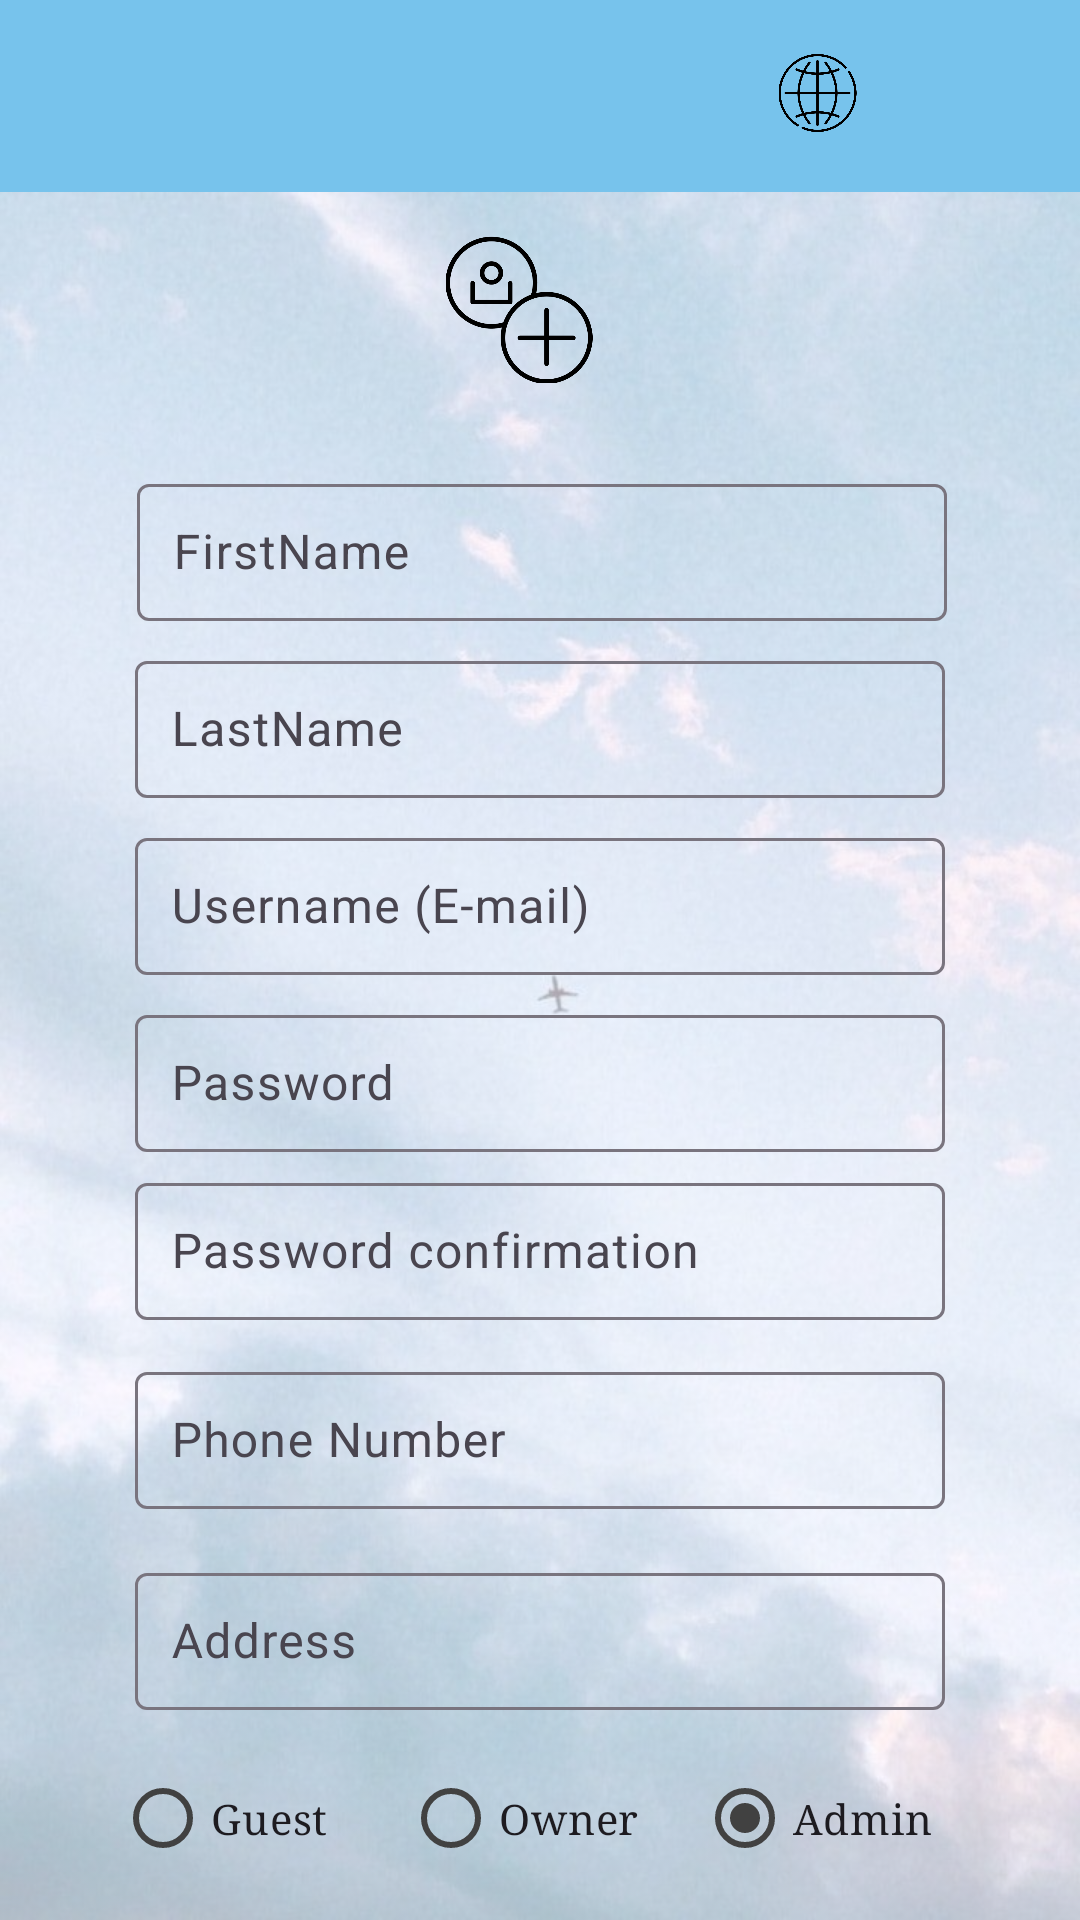

Point at icon controls on the screen. Image size 1080px x 1920px, points as (x=x, y=y).
Language Button: (x=818, y=93)
profile: (x=519, y=310)
